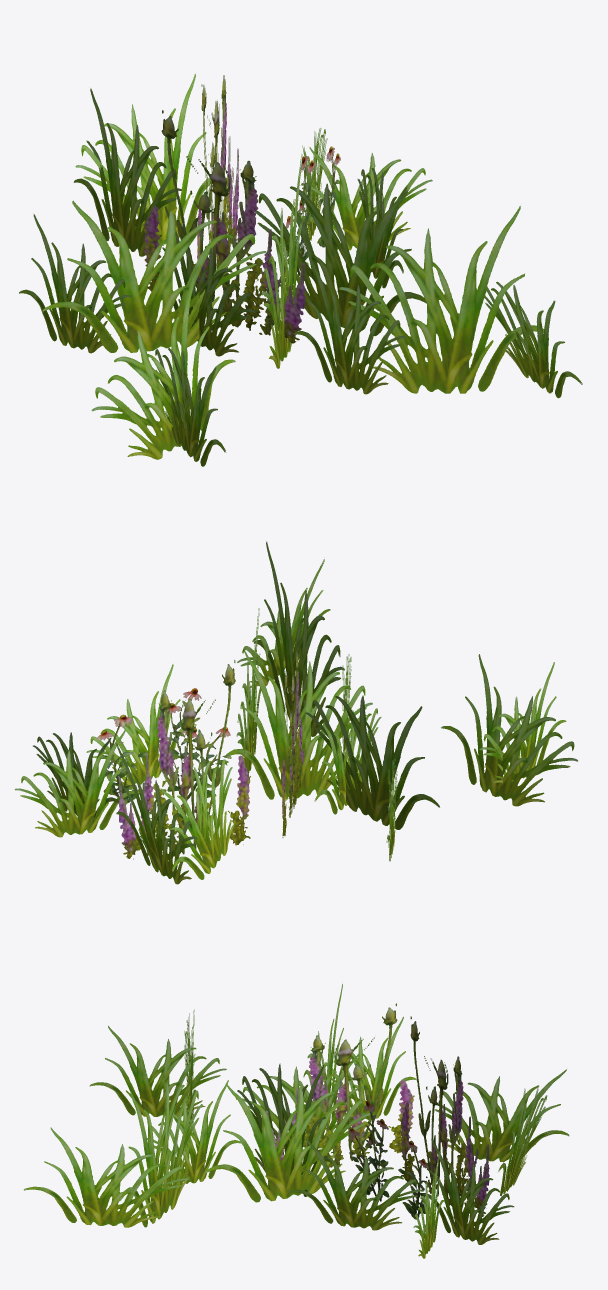
The model's file is DN_grass01c.FBX.
3 views of the same model, one above another, from view 1: azimuth 30°, elevation 25°; view 2: azimuth 150°, elevation 25°; view 3: azimuth 270°, elevation 25° (orthographic). The views are drawn at different scales.
Visible parts, largest first — view 1: DN_grass01c; view 2: DN_grass01c; view 3: DN_grass01c.
Part boxes in pixels (x1=…): DN_grass01c: x1=19, y1=74, x2=582, y2=466; DN_grass01c: x1=14, y1=541, x2=577, y2=884; DN_grass01c: x1=24, y1=984, x2=569, y2=1258.
Bounding box in the file's own units: 100 × 46.7 × 126.
